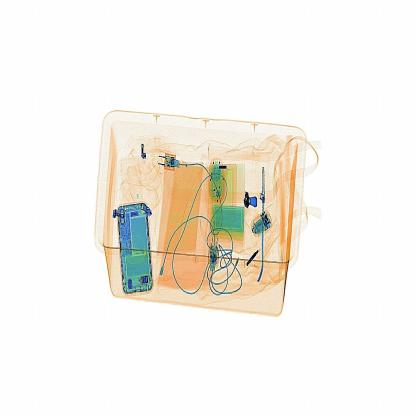wrench: (236, 178, 267, 214)
